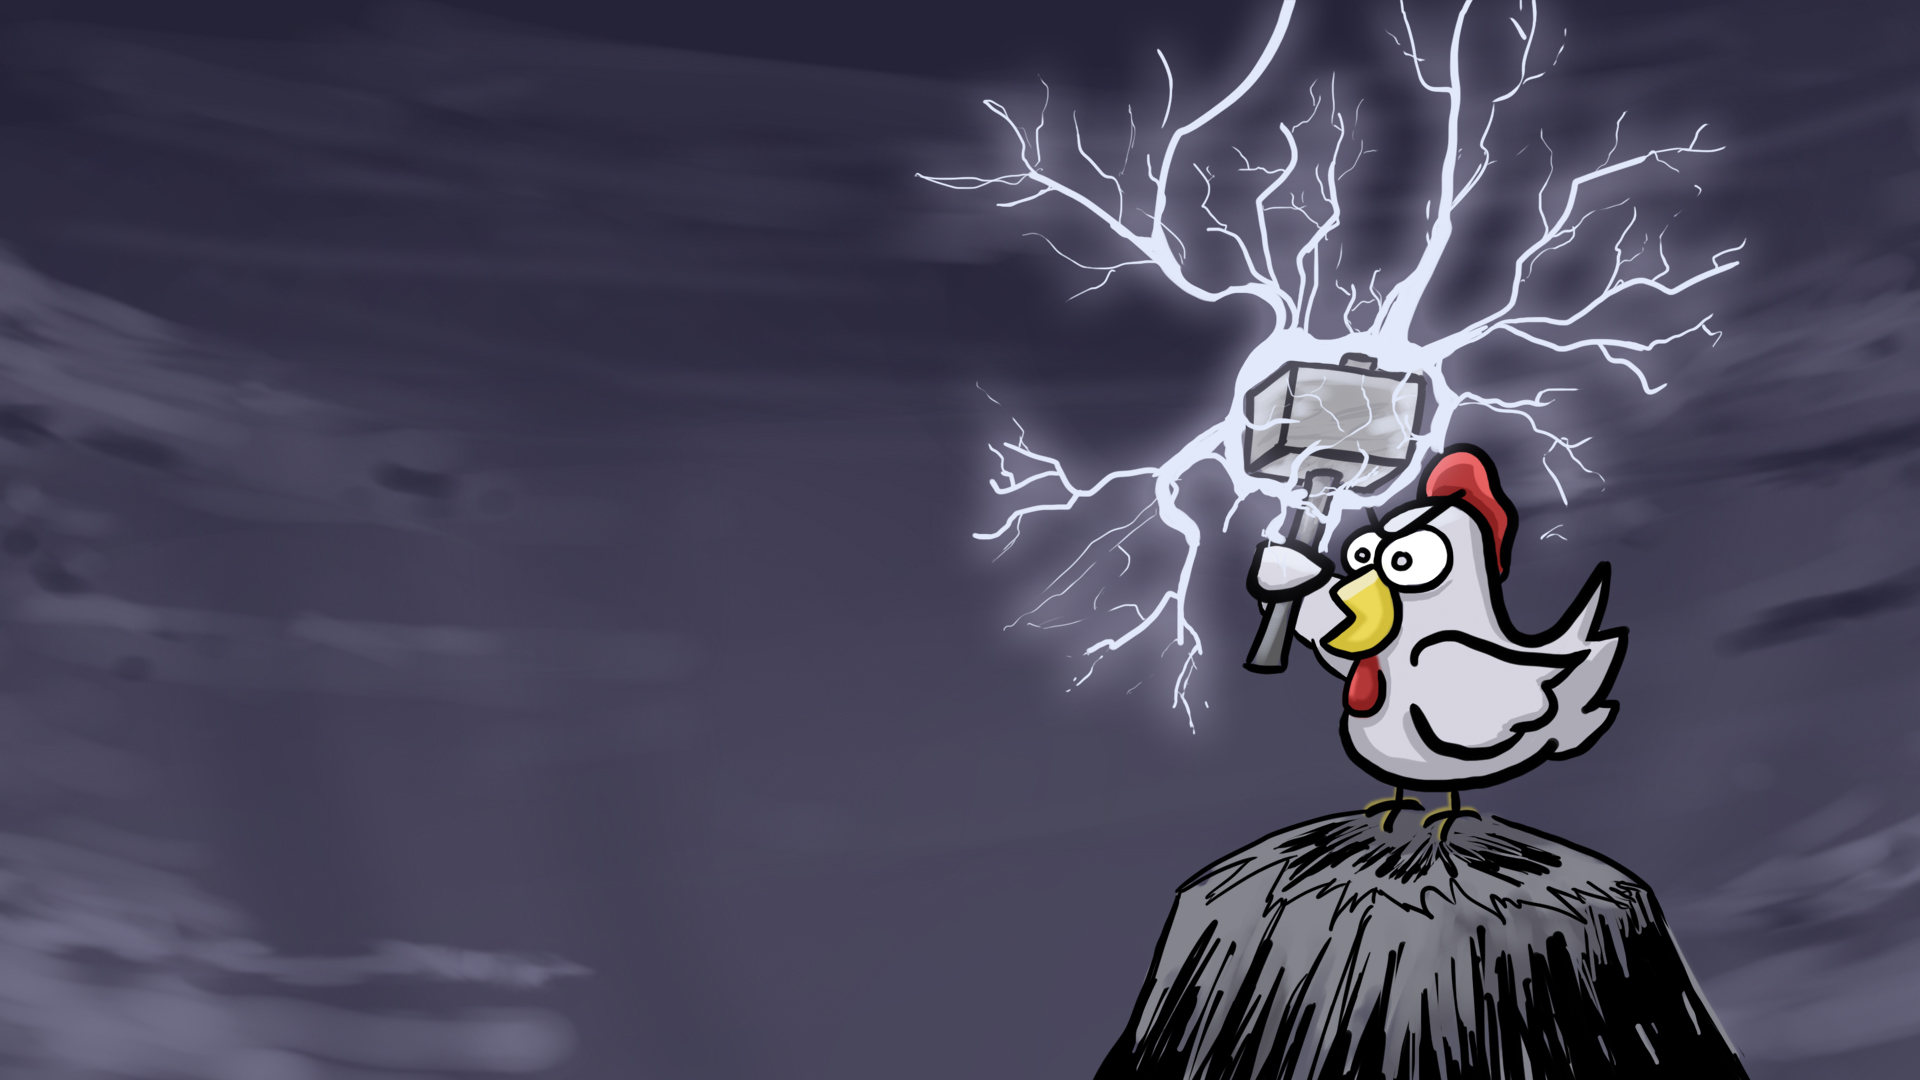THOR Hammer: (1201, 336, 1447, 671)
